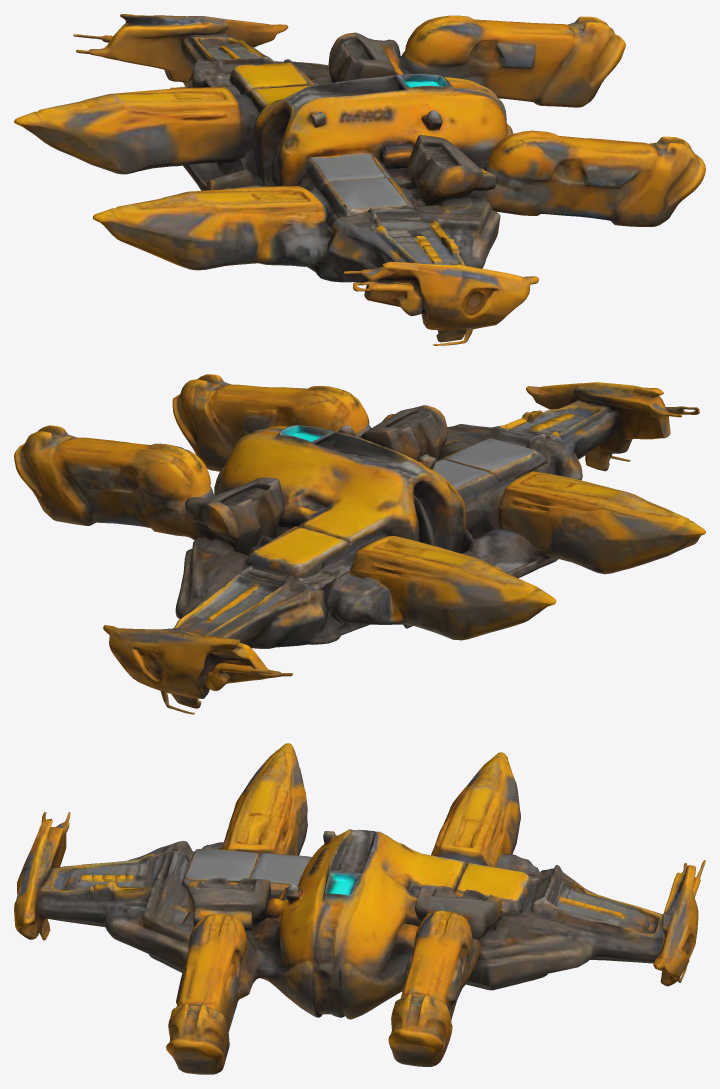
The model's file is mule_c1.glb.
The picture shows the model from 3 angles, top to bottom: view 1: azimuth 30°, elevation 25°; view 2: azimuth 150°, elevation 25°; view 3: azimuth 270°, elevation 25°; orthographic projection. The views are drawn at different scales.
Visible parts, largest first — view 1: tripo_node_20e3b4f0-492f-4696-8ce0-8296b25f505d; view 2: tripo_node_20e3b4f0-492f-4696-8ce0-8296b25f505d; view 3: tripo_node_20e3b4f0-492f-4696-8ce0-8296b25f505d.
Part boxes in pixels (x1,y1,x2,y2): tripo_node_20e3b4f0-492f-4696-8ce0-8296b25f505d: (14, 14, 705, 345); tripo_node_20e3b4f0-492f-4696-8ce0-8296b25f505d: (14, 374, 705, 714); tripo_node_20e3b4f0-492f-4696-8ce0-8296b25f505d: (14, 743, 705, 1074).
Bounding box in the file's own units: 1.9 × 0.4071 × 2.
Materials: 1 (1 with a texture image).
